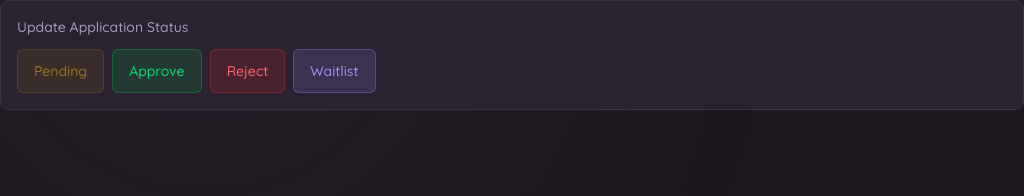
Test: StatusUpdateButtons — confirmation › asks for confirmation instead of updating on the first click
Click the button "Approve" at [157, 71], box 112,49 -> 202,93
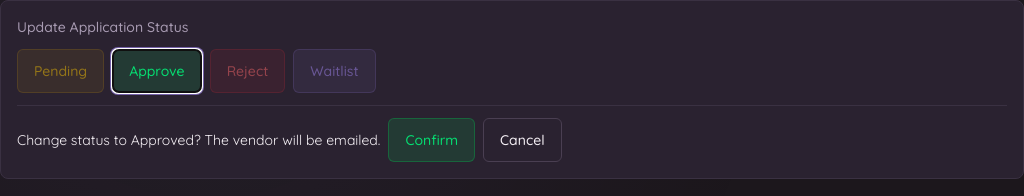
Check: the text "Change status to Approved? The vendor will be emailed." is shown, box 17,130 -> 380,150
Check: the button "Confirm" is shown, box 388,118 -> 475,162
Check: the button "Cancel" is shown, box 483,118 -> 562,162
